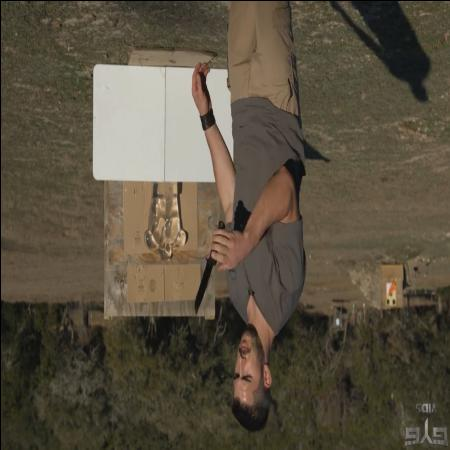long weapon: (189, 220, 231, 322)
